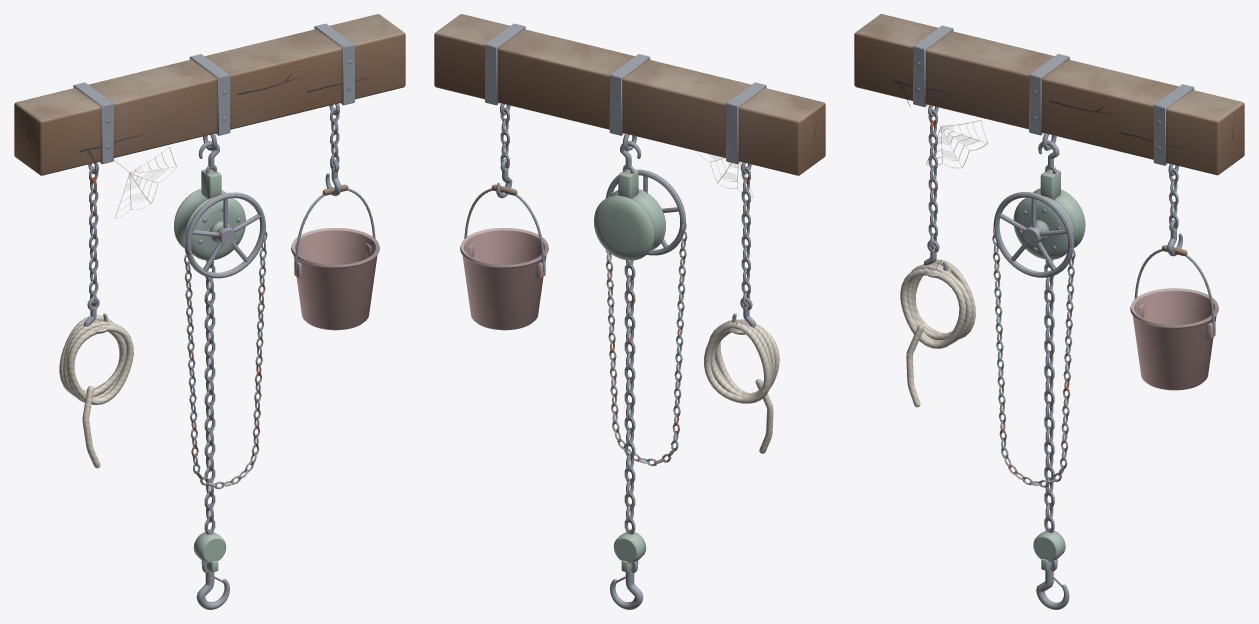
Rendered from chains-and-hooks.glb.
3 views of the same model, side by side, from view 1: azimuth 30°, elevation 25°; view 2: azimuth 150°, elevation 25°; view 3: azimuth 330°, elevation 25° (orthographic).
Parts seen in each view (by area): view 1: chains-and-hooks_body, chains-and-hooks_web; view 2: chains-and-hooks_body; view 3: chains-and-hooks_body, chains-and-hooks_web.
Boxes of the visible parts, left/top/right/bottom form: chains-and-hooks_body: left=14, top=14, right=405, bottom=609; chains-and-hooks_web: left=114, top=147, right=176, bottom=218; chains-and-hooks_body: left=434, top=14, right=825, bottom=609; chains-and-hooks_body: left=854, top=14, right=1244, bottom=609; chains-and-hooks_web: left=926, top=107, right=987, bottom=168.
Size of the model in its own units: 1.32 by 1.88 by 0.278.
3 materials, 1 textured.
